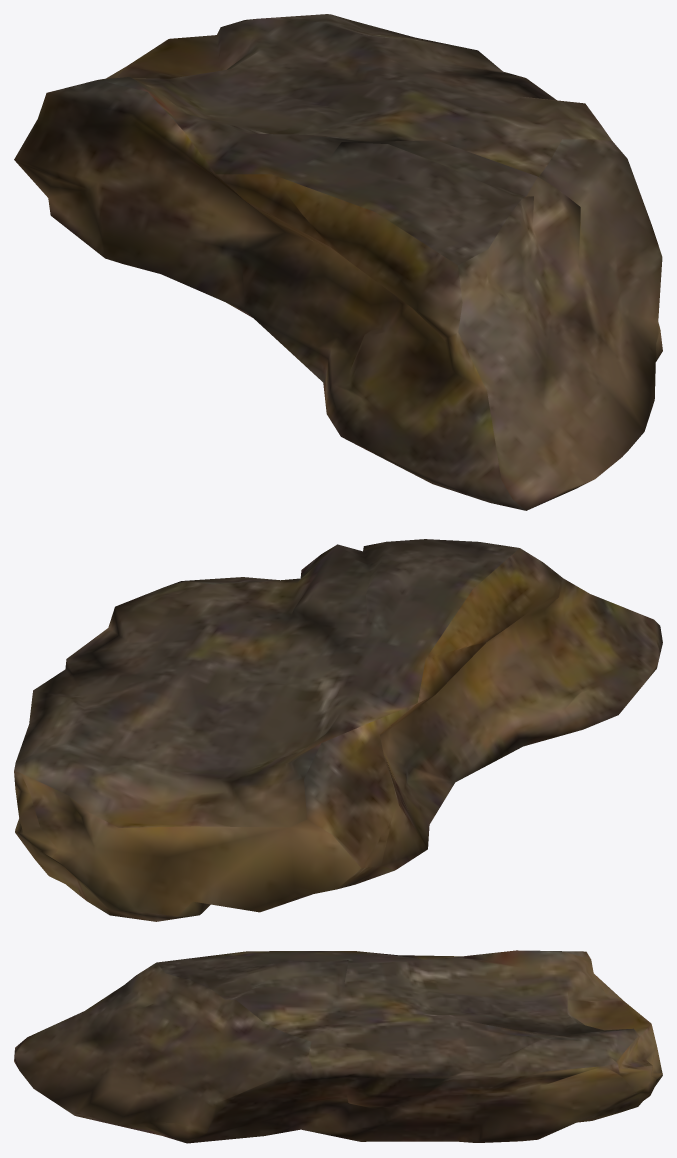
The model's file is rock_09.glb.
3 renders of one model, top to bottom at view 1: azimuth 30°, elevation 25°; view 2: azimuth 150°, elevation 25°; view 3: azimuth 270°, elevation 25°, orthographic. The views are drawn at different scales.
Visible parts, largest first — view 1: rock_09_LOD0; view 2: rock_09_LOD0; view 3: rock_09_LOD0.
Part boxes in pixels (bbox=[...]): rock_09_LOD0: bbox=[14, 14, 662, 510]; rock_09_LOD0: bbox=[14, 539, 662, 921]; rock_09_LOD0: bbox=[14, 950, 662, 1143].
Size of the model in its own units: 0.0738 by 0.0326 by 0.1442.
Materials: 1 (1 with a texture image).
